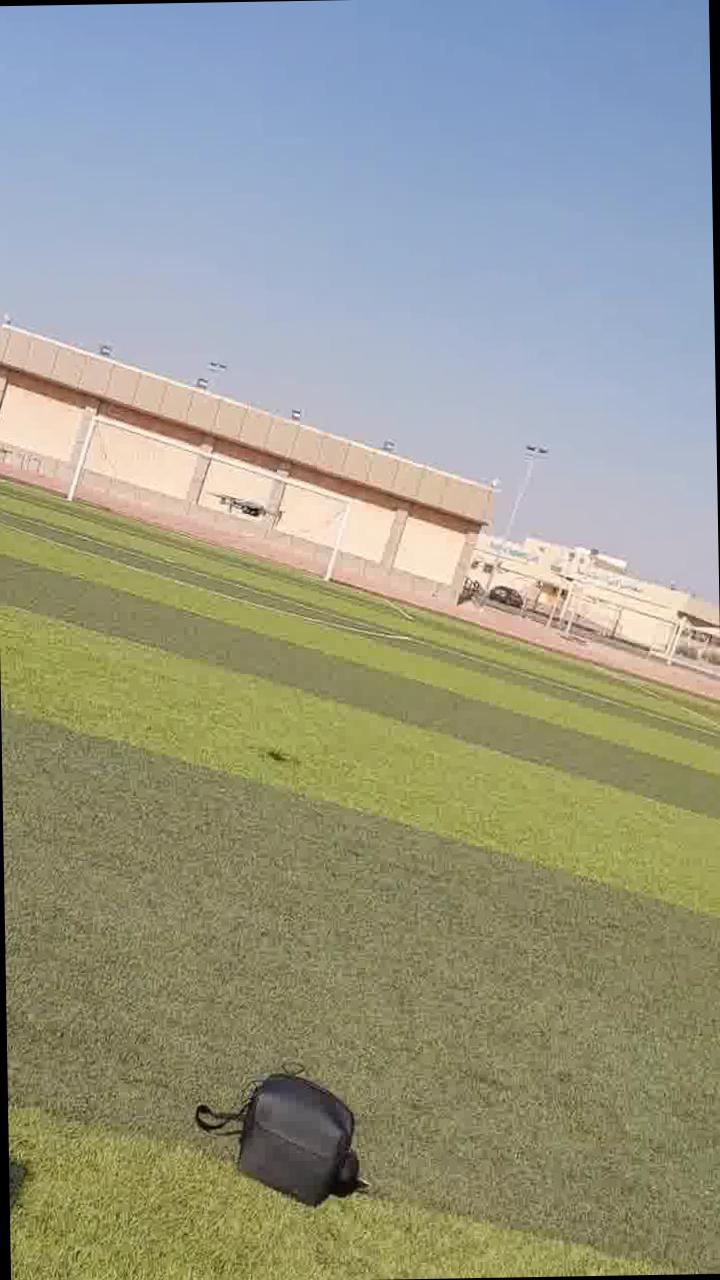drone: (204, 478, 290, 534)
